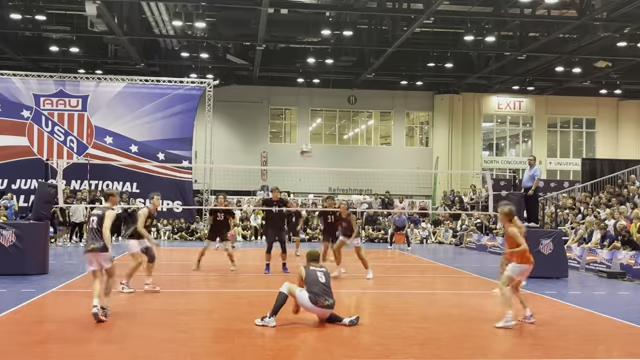Player: (255, 250, 358, 327), (495, 205, 534, 327), (84, 190, 118, 322), (119, 193, 160, 292), (194, 194, 235, 270), (333, 202, 372, 278), (258, 187, 290, 273), (319, 196, 338, 262), (287, 201, 303, 255), (511, 216, 526, 235)
Receive: (255, 249, 365, 329)
